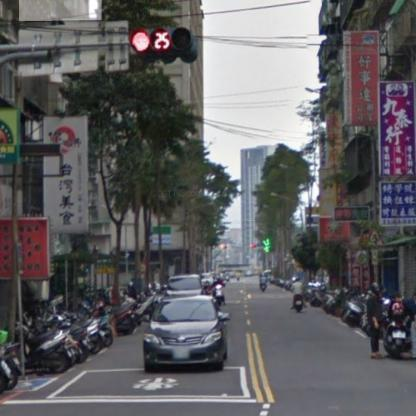Red Light: (130, 25, 199, 59)
